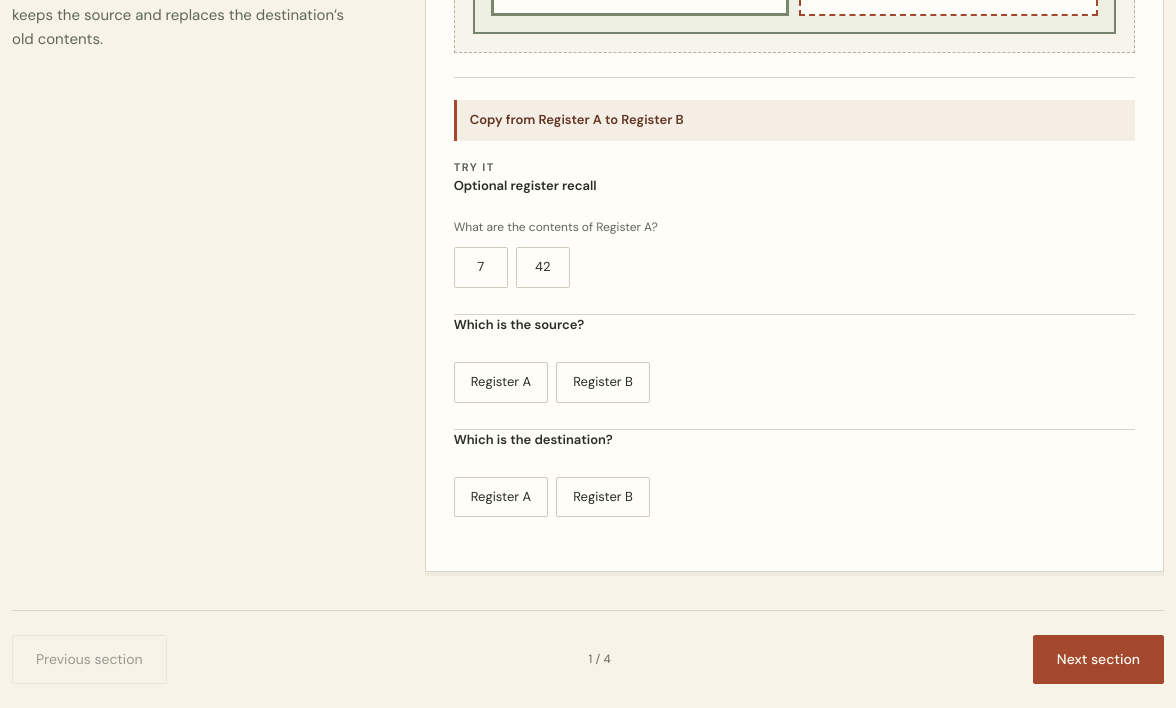
Test: introduces source and destination, revealing explanations only together
The width and height of the screenshot is (1176, 708).
(page scrolled)
Click the button "Register A" below "Which is the source?".
click(501, 382)  # box [454, 362, 548, 403]
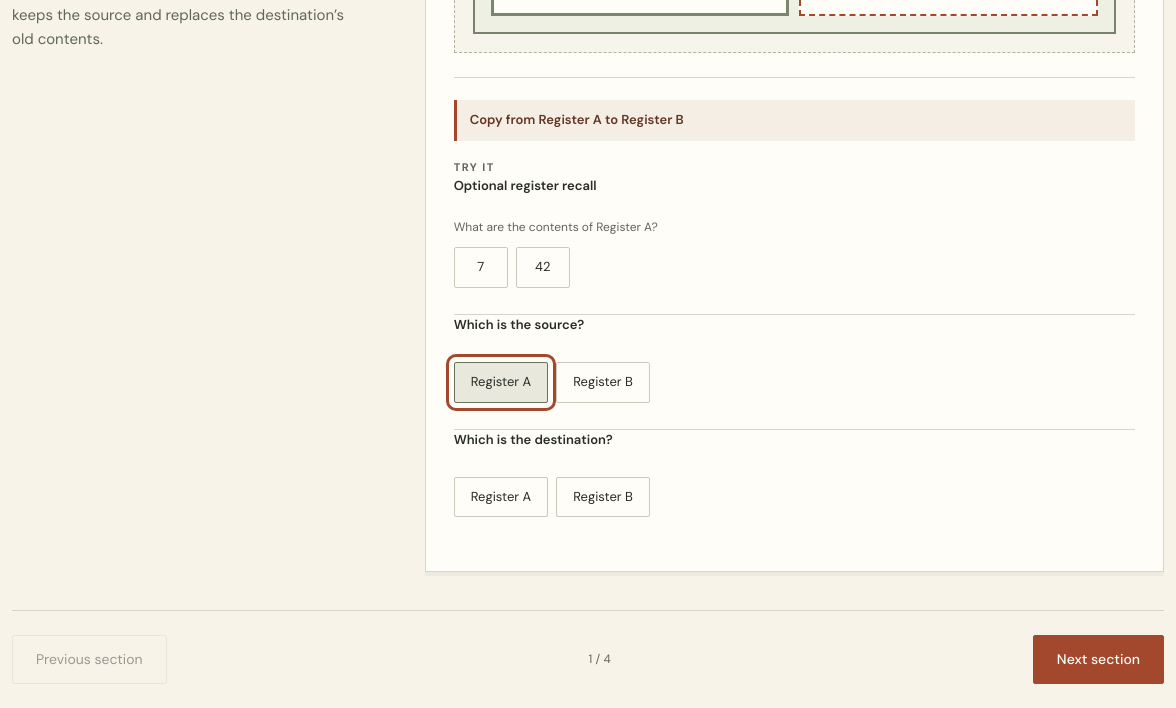
Click the button "Register B" below "Which is the destination?".
click(603, 497)  # box [556, 477, 650, 517]
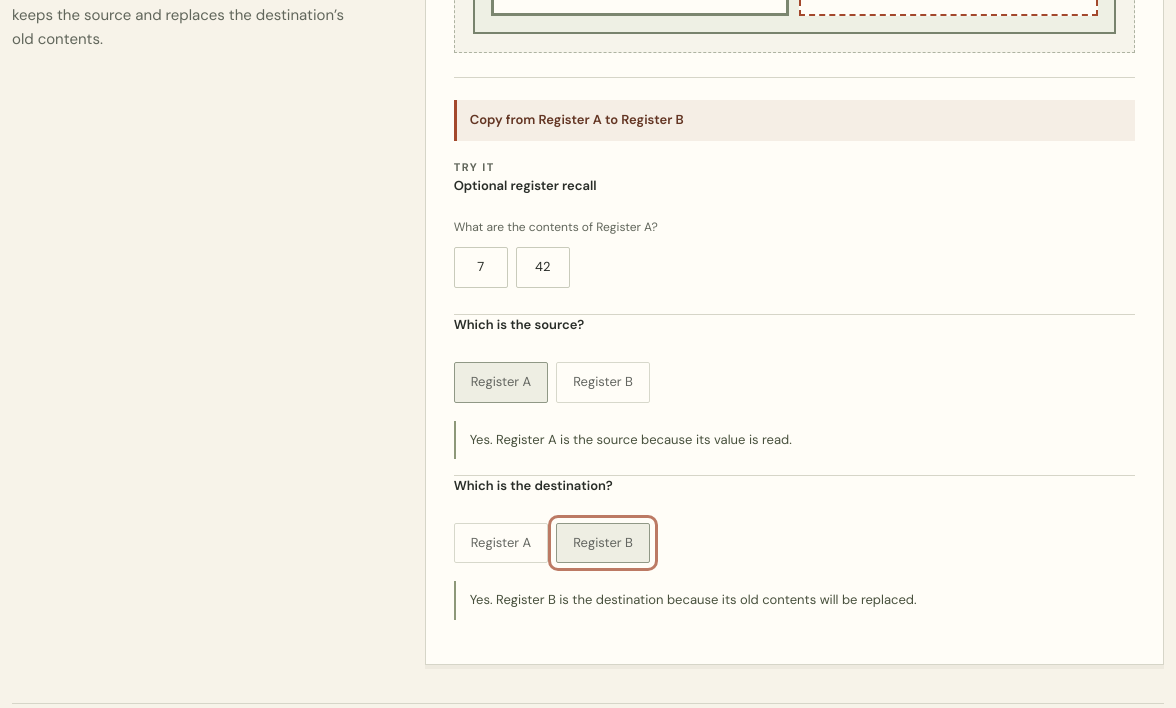
Expected: the number of messages is 2, [454, 421, 1135, 459]; [454, 582, 1135, 620]
